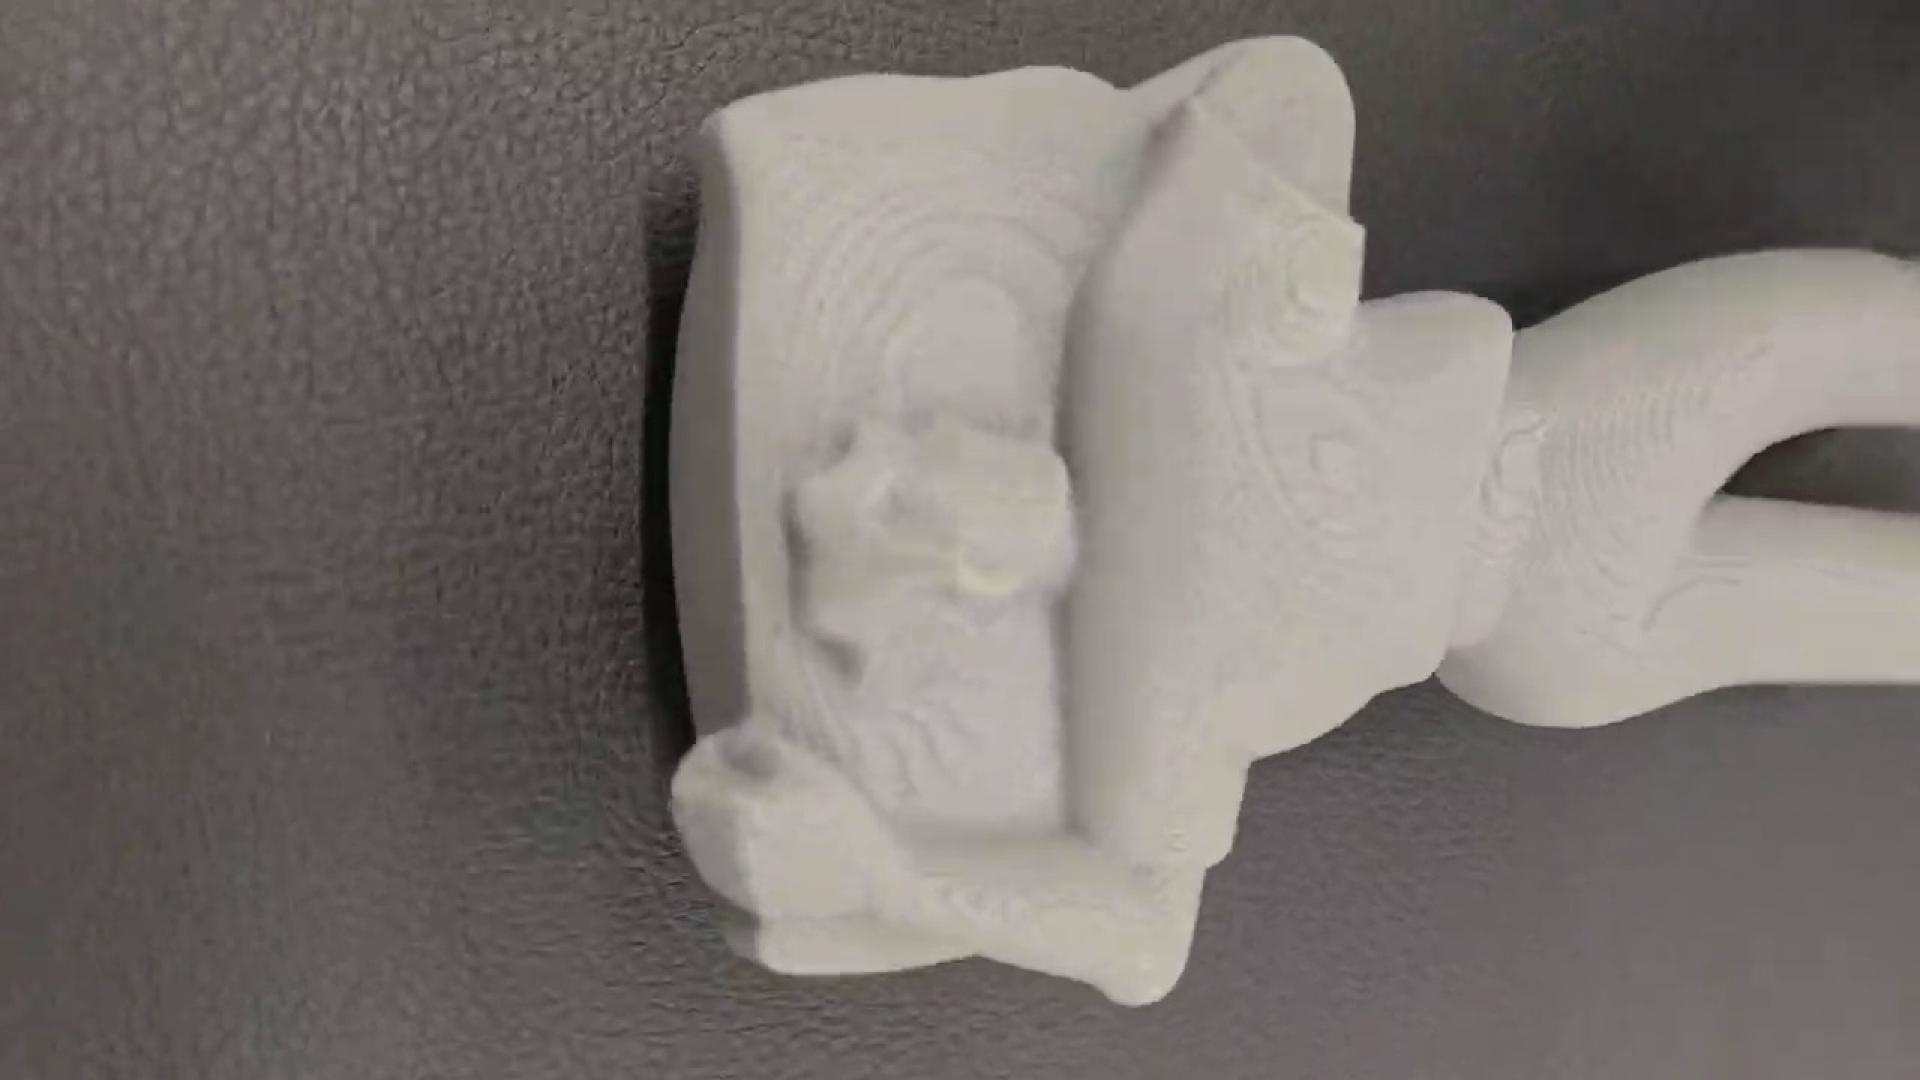Bad-style: (642, 28, 1920, 1007)
